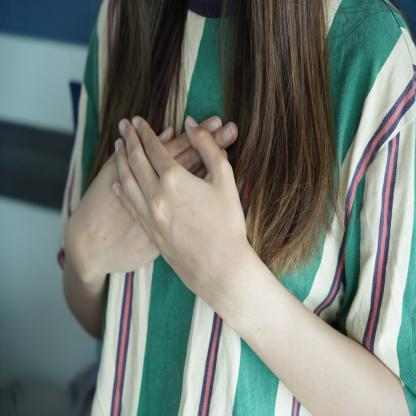Grieve: (57, 105, 286, 326)
